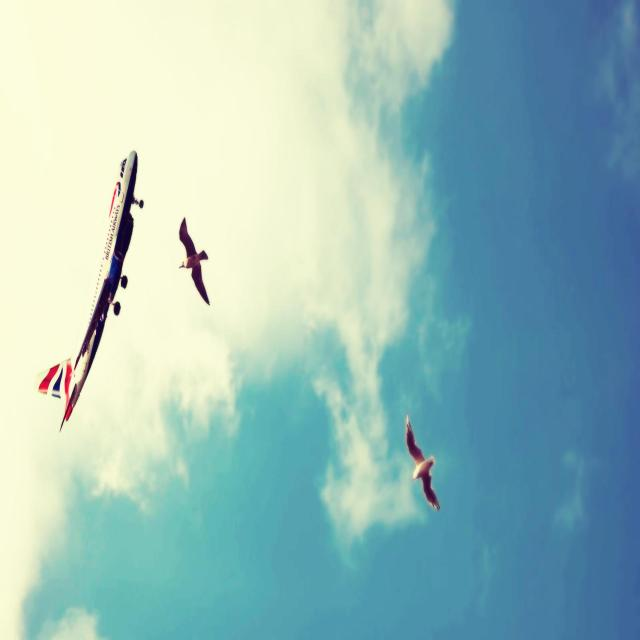airplane: (36, 148, 144, 433)
